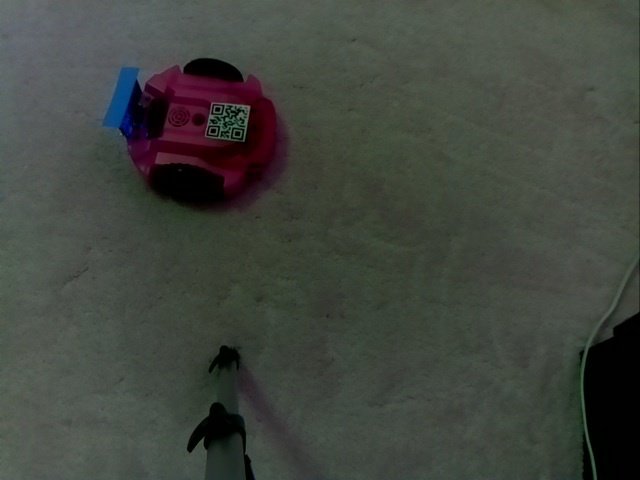chassis: (98, 58, 282, 196)
qr: (200, 98, 254, 145)
